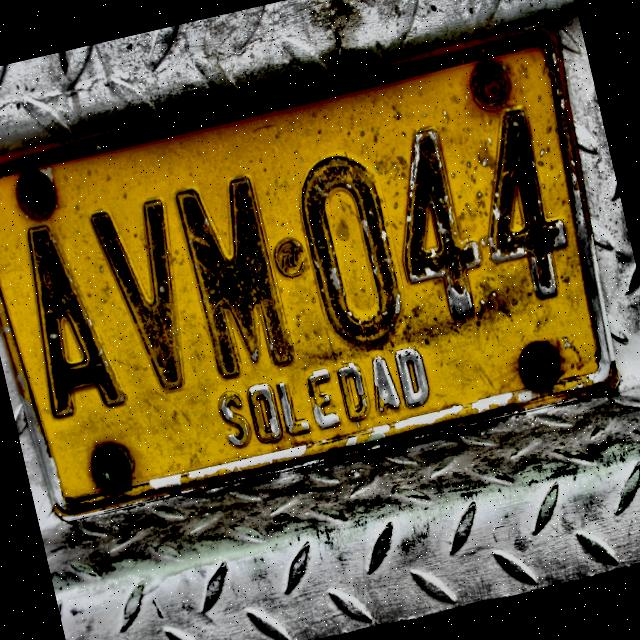0: (282, 138, 418, 358)
4: (454, 98, 585, 314), (373, 120, 500, 338)
A: (1, 207, 136, 433)
M: (169, 166, 302, 388)
V: (81, 185, 212, 412)
